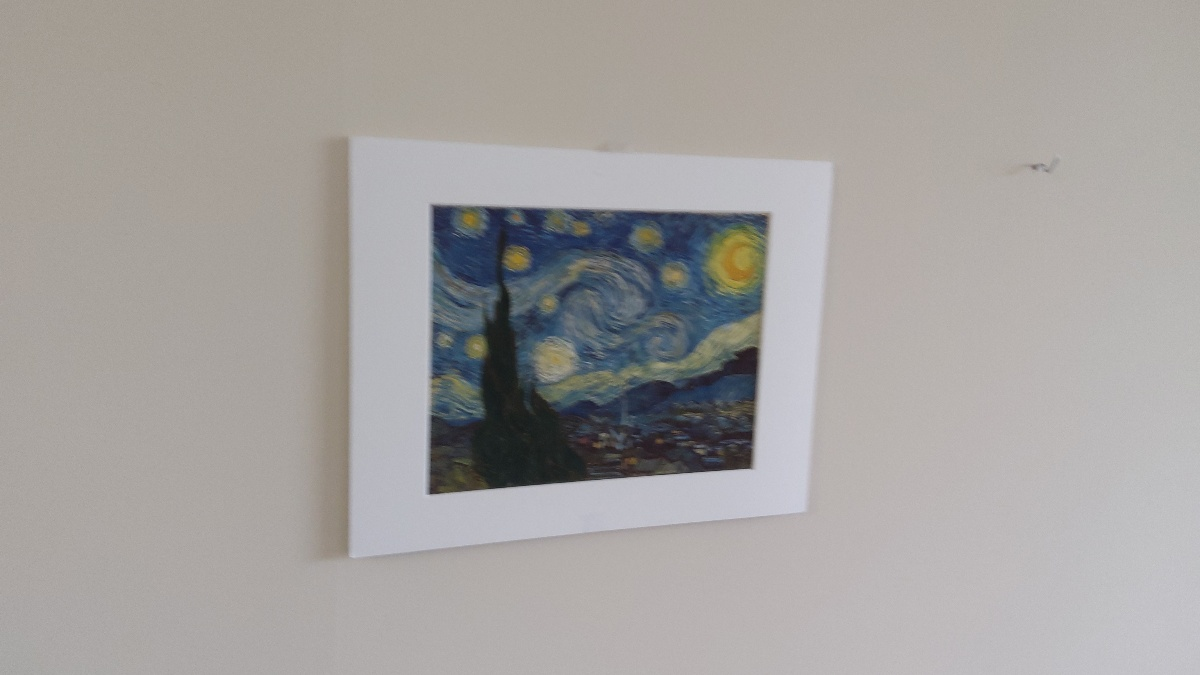painting: (417, 188, 774, 502)
